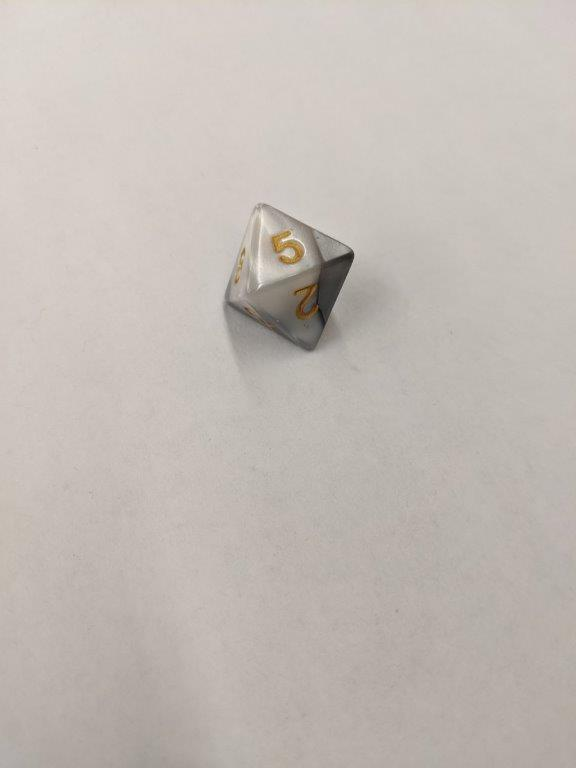d8-5: (218, 200, 356, 353)
